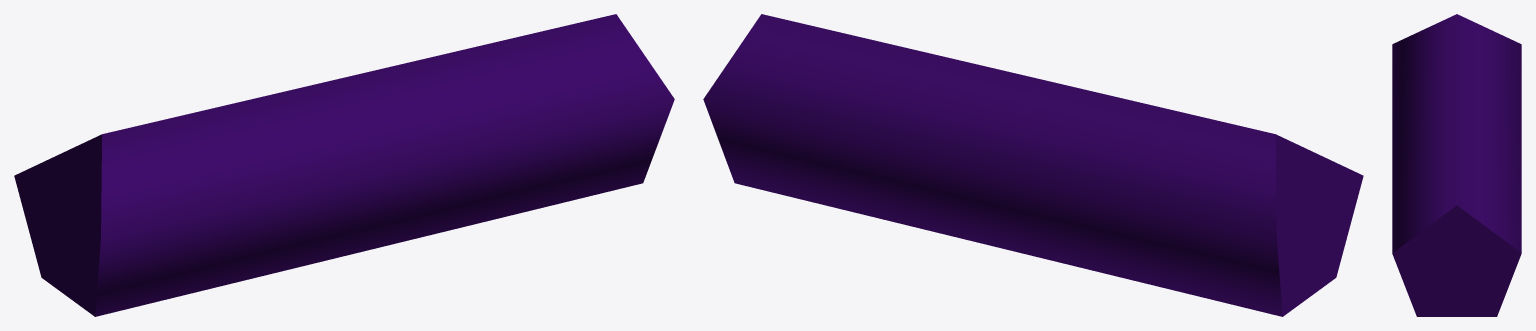
The model's file is Crayon_J.FBX.
3 renders of one model, left to right at view 1: azimuth 30°, elevation 25°; view 2: azimuth 150°, elevation 25°; view 3: azimuth 270°, elevation 25°, orthographic. The views are drawn at different scales.
Visible parts, largest first — view 1: Crayon_And_Chalk; view 2: Crayon_And_Chalk; view 3: Crayon_And_Chalk.
Part boxes in pixels (x1,y1,x2,y2): Crayon_And_Chalk: (14, 14, 674, 316); Crayon_And_Chalk: (703, 14, 1363, 316); Crayon_And_Chalk: (1392, 14, 1521, 316).
Bounding box in the file's own units: 29.04 × 7.49 × 7.61.
